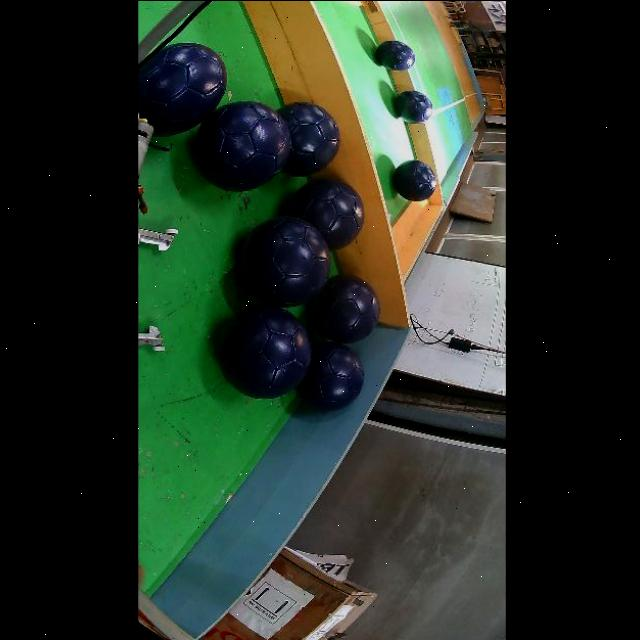B: (217, 304, 312, 397), (194, 101, 291, 190), (138, 42, 226, 135), (240, 216, 331, 305), (287, 178, 364, 249), (310, 273, 381, 342), (277, 101, 340, 175), (298, 341, 364, 410), (392, 158, 437, 201), (395, 89, 433, 123), (375, 40, 415, 70)
